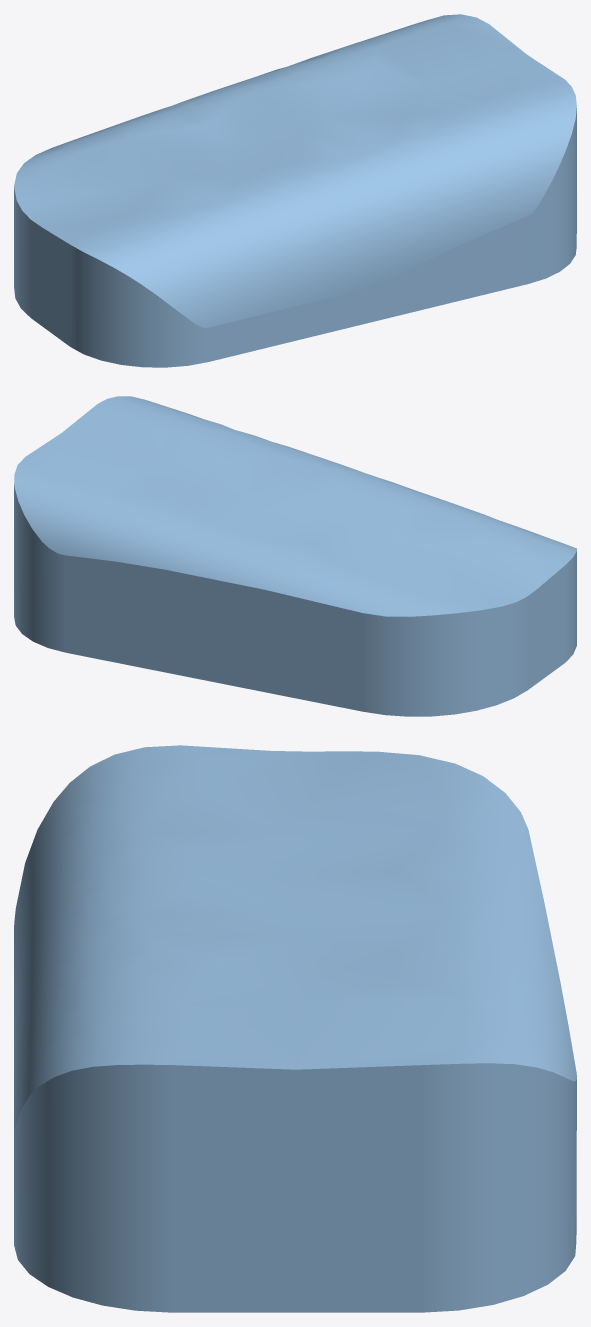
The picture shows the model from 3 angles, top to bottom: view 1: azimuth 30°, elevation 25°; view 2: azimuth 150°, elevation 25°; view 3: azimuth 270°, elevation 25°; orthographic projection. The views are drawn at different scales.
Visible parts, largest first — view 1: =>[0:1:1:2]; view 2: =>[0:1:1:2]; view 3: =>[0:1:1:2].
Part boxes in pixels (box(x1,y1,x2,y2)): =>[0:1:1:2]: box(14, 14, 576, 367); =>[0:1:1:2]: box(14, 396, 576, 716); =>[0:1:1:2]: box(14, 745, 576, 1312).
Bounding box in the file's own units: 38.92 × 11.3 × 23.28.
